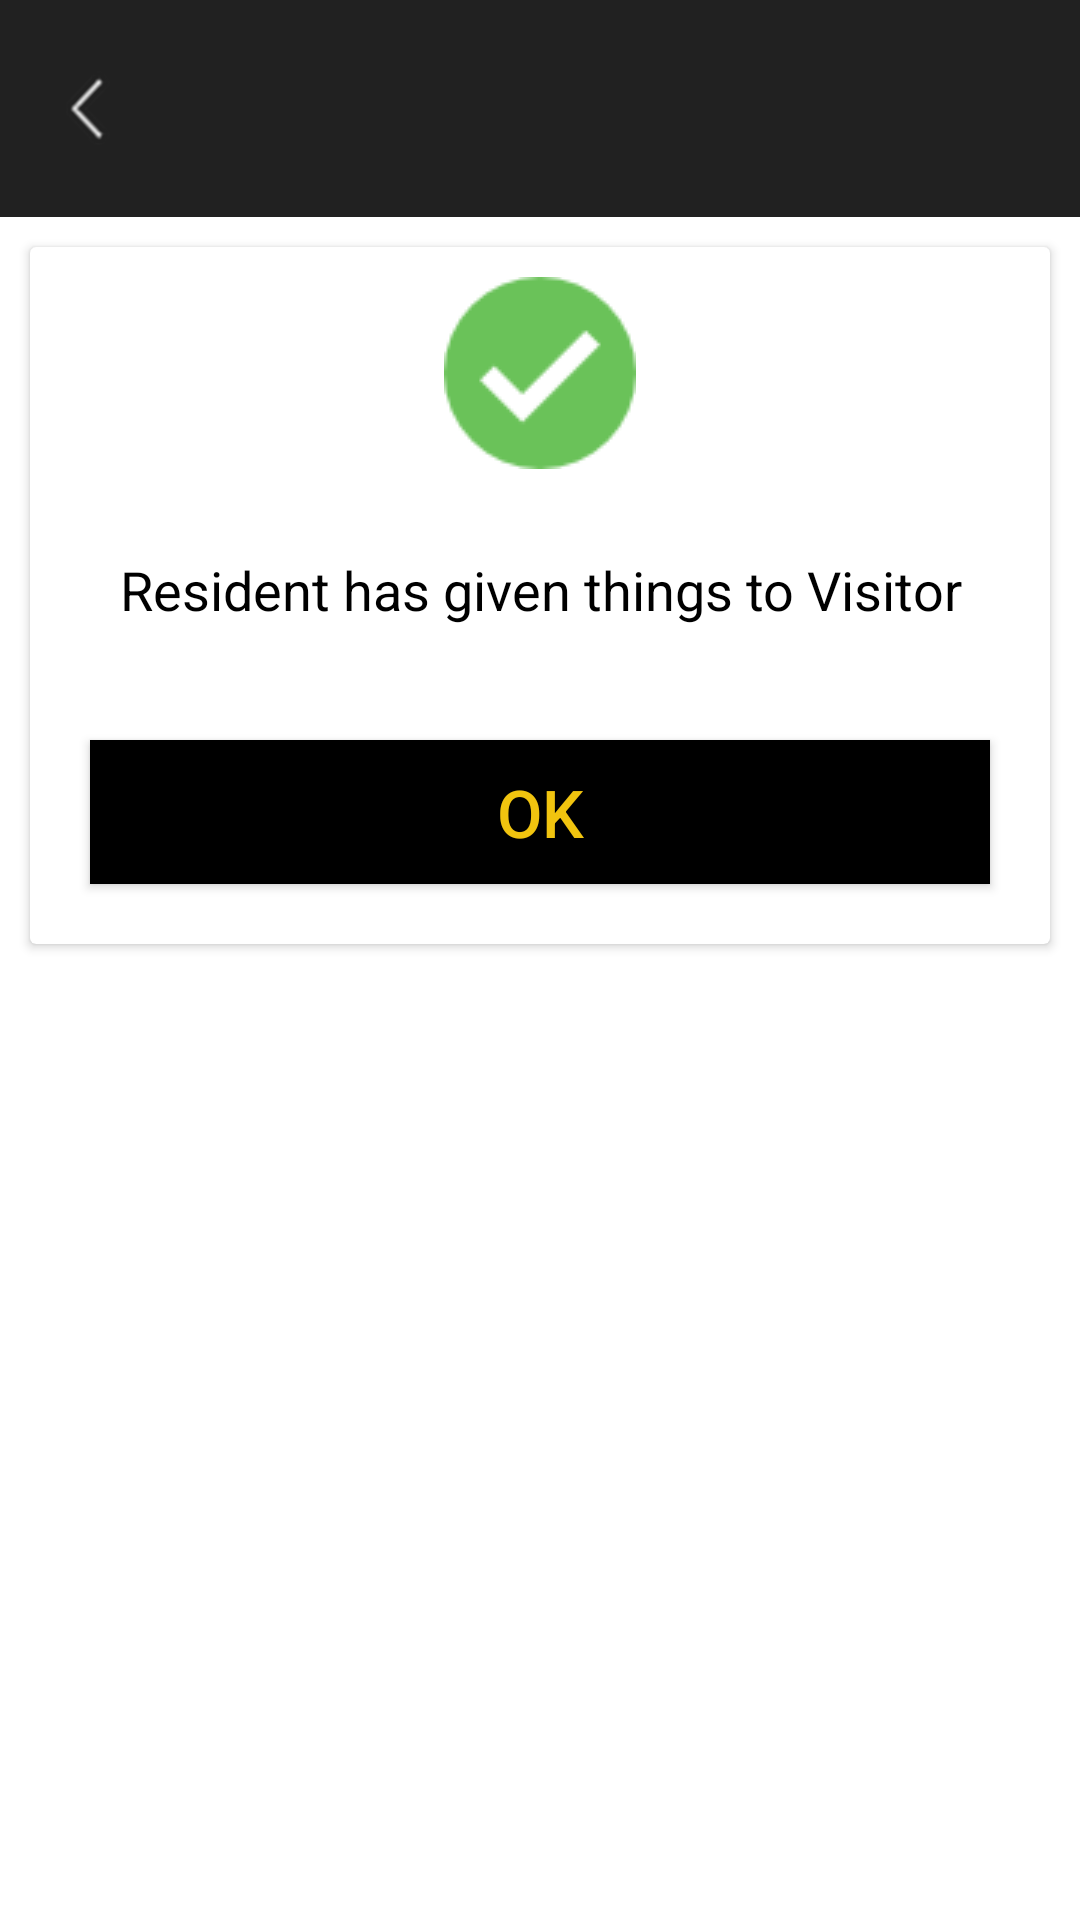

Point at icon controls on the screen. Image size 1080x1920, points as point (x, y).
Back button to navigate previous activity: point (87, 108)
Image to indicate for successful visitor validation: point (540, 373)
